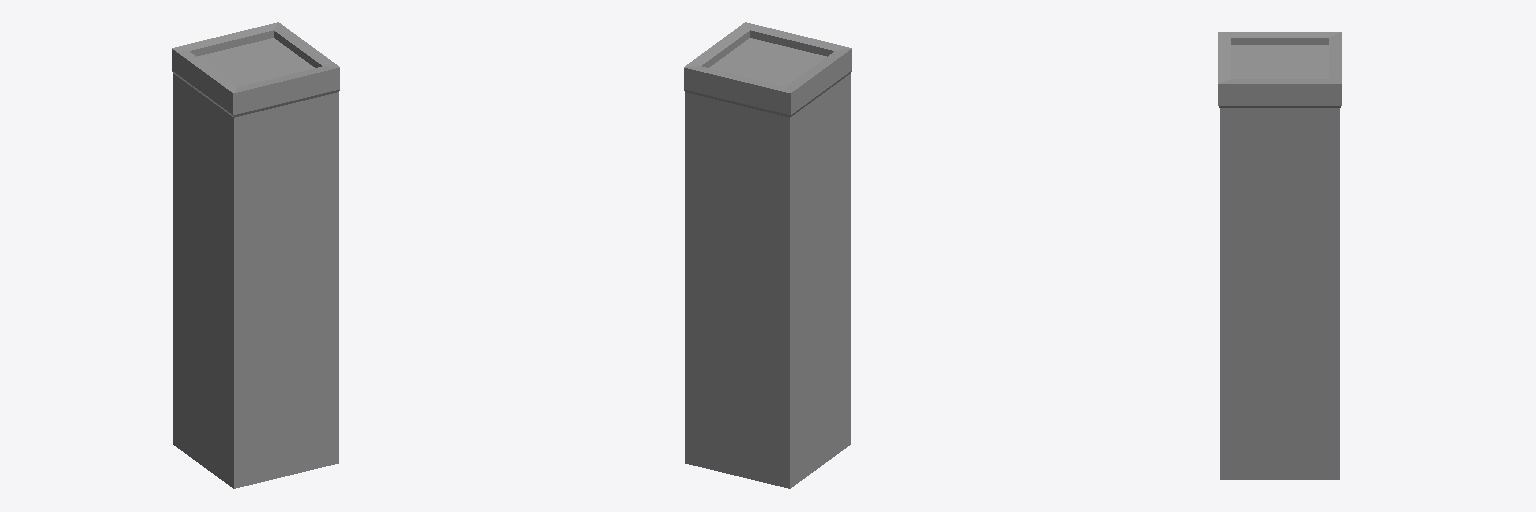
The model's file is SandGlideStartingStep.obj.
The picture shows the model from 3 angles: view 1: azimuth 30°, elevation 25°; view 2: azimuth 150°, elevation 25°; view 3: azimuth 270°, elevation 25°; orthographic projection.
Parts seen in each view (by area): view 1: Plane.003_Plane.050, Plane.004_Plane.051; view 2: Plane.003_Plane.050, Plane.004_Plane.051; view 3: Plane.003_Plane.050, Plane.004_Plane.051.
Part boxes in pixels (x1,y1,x2,y2): Plane.003_Plane.050: (172,22,339,488); Plane.004_Plane.051: (197,38,314,86); Plane.003_Plane.050: (684,22,851,488); Plane.004_Plane.051: (709,38,826,86); Plane.003_Plane.050: (1218,32,1341,479); Plane.004_Plane.051: (1231,45,1328,78).
Size of the model in its own units: 701 by 2480 by 701.